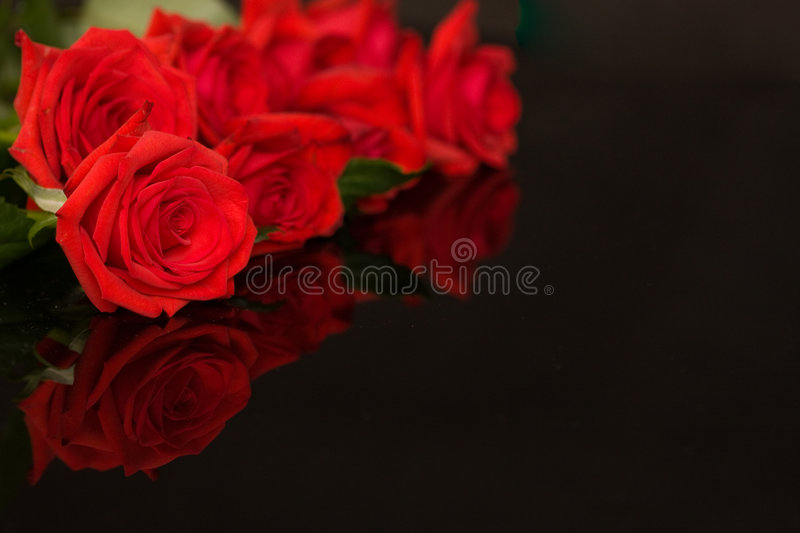RedRose: (55, 136, 237, 301), (388, 35, 549, 185), (27, 30, 165, 166), (143, 8, 271, 142), (265, 0, 390, 131), (210, 120, 331, 245)
